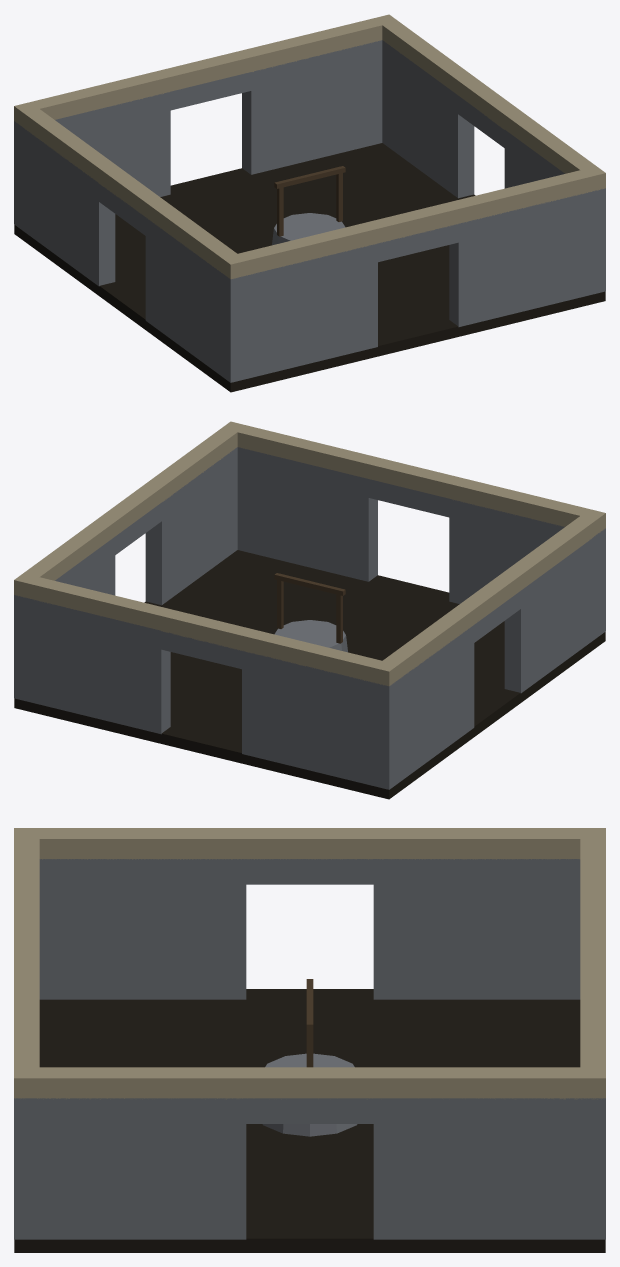
Rendered from WellCourtyard.fbx.
The picture shows the model from 3 angles, top to bottom: view 1: azimuth 30°, elevation 25°; view 2: azimuth 150°, elevation 25°; view 3: azimuth 270°, elevation 25°; orthographic projection. The views are drawn at different scales.
Parts seen in each view (by area): view 1: WellCourtyard; view 2: WellCourtyard; view 3: WellCourtyard.
Boxes of the visible parts, bbox=[...] form: WellCourtyard: bbox=[14, 14, 605, 392]; WellCourtyard: bbox=[14, 421, 605, 799]; WellCourtyard: bbox=[14, 828, 605, 1252].
Size of the model in its own units: 1202 by 392 by 1202.
5 materials, 5 textured.
